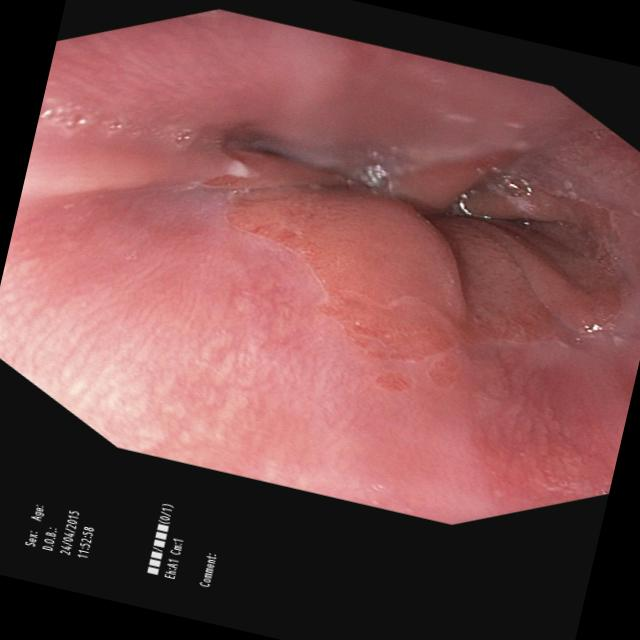Normal-Z-Line: (213, 121, 628, 392)
